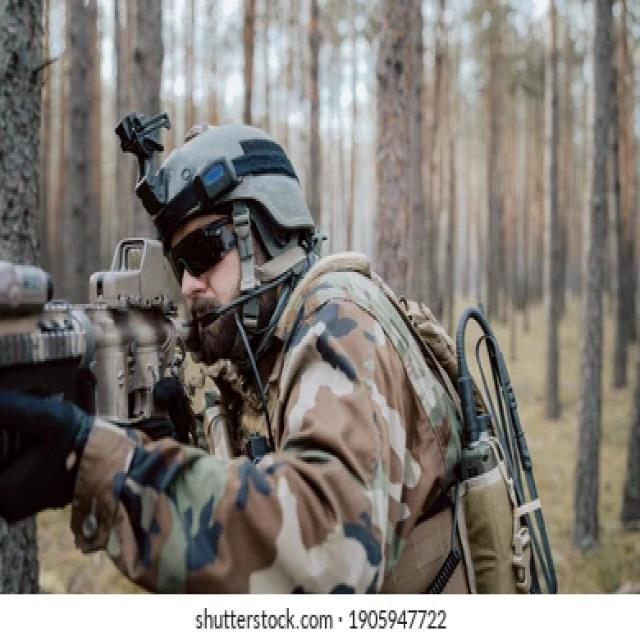soldier: (1, 86, 551, 593)
